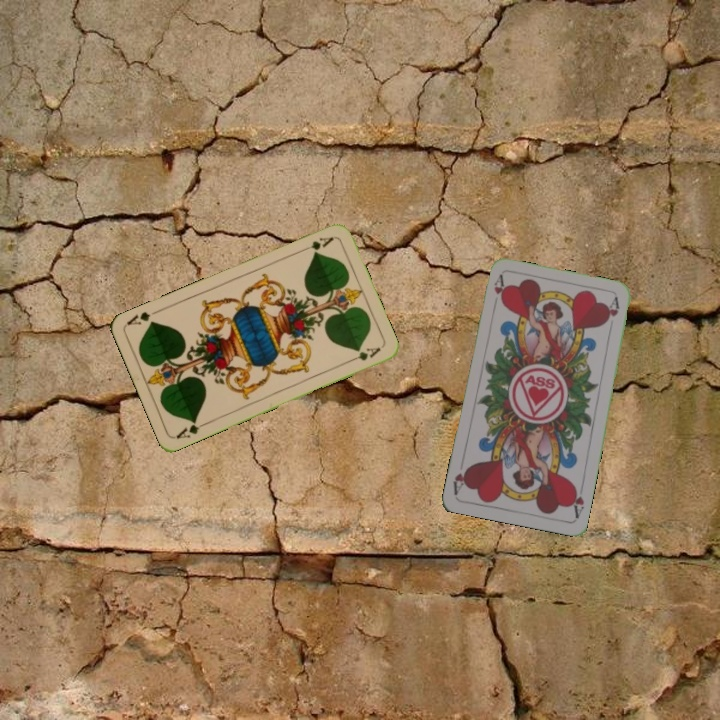GA: (172, 416, 211, 442), (297, 232, 337, 256)
HA: (567, 481, 587, 521), (489, 272, 508, 312)
